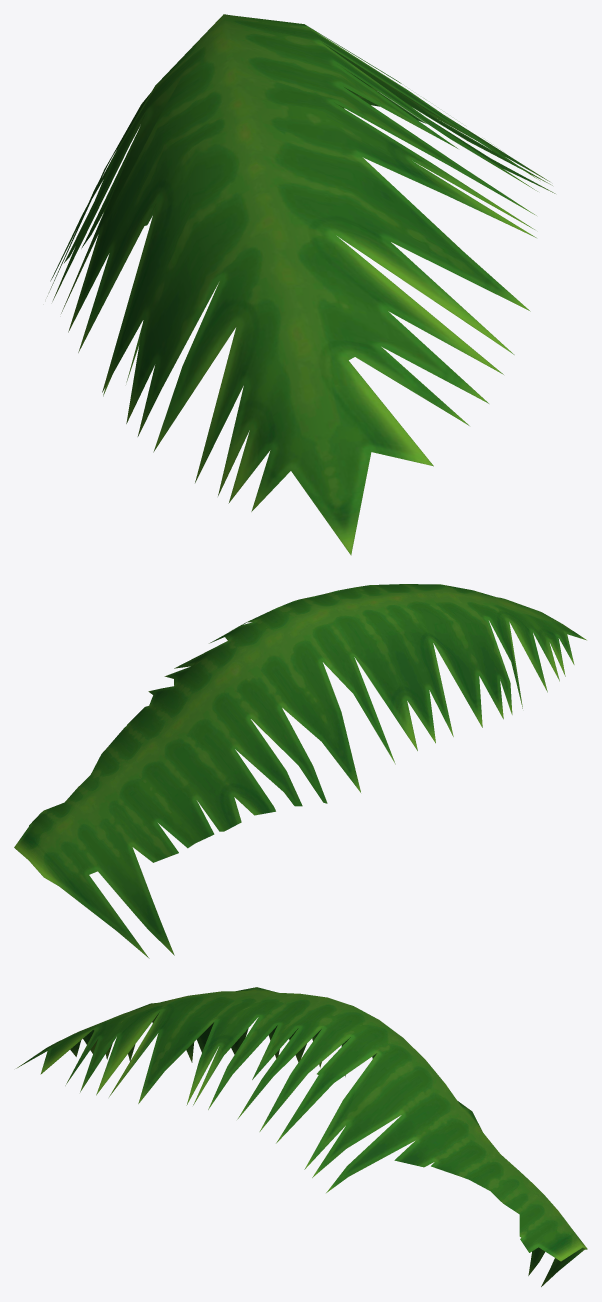
File: palm_leaves_palm_leaves_0_0010.obj
The picture shows the model from 3 angles, top to bottom: view 1: azimuth 30°, elevation 25°; view 2: azimuth 150°, elevation 25°; view 3: azimuth 270°, elevation 25°; orthographic projection. The views are drawn at different scales.
Visible parts, largest first — view 1: palm_leaves_palm_leaves_0.010; view 2: palm_leaves_palm_leaves_0.010; view 3: palm_leaves_palm_leaves_0.010.
Part boxes in pixels (bbox=[...]): palm_leaves_palm_leaves_0.010: bbox=[47, 14, 555, 555]; palm_leaves_palm_leaves_0.010: bbox=[14, 584, 586, 958]; palm_leaves_palm_leaves_0.010: bbox=[16, 987, 587, 1286].
Bounding box in the file's own units: 15.46 × 13.43 × 26.49.
